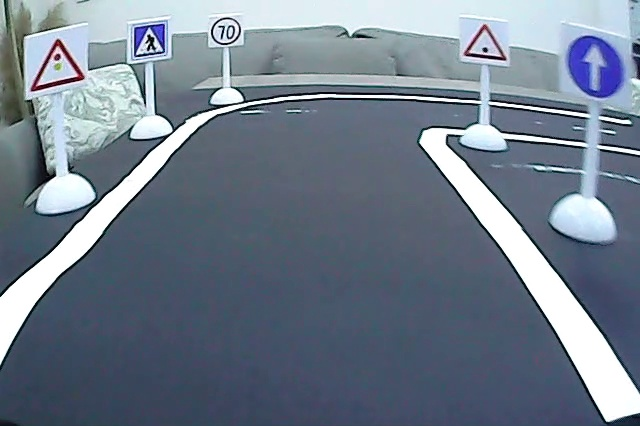green light: (461, 22, 508, 63)
pedestrian crossing: (129, 21, 171, 63)
red light: (28, 34, 87, 96)
speed limit 70: (209, 16, 242, 48)
